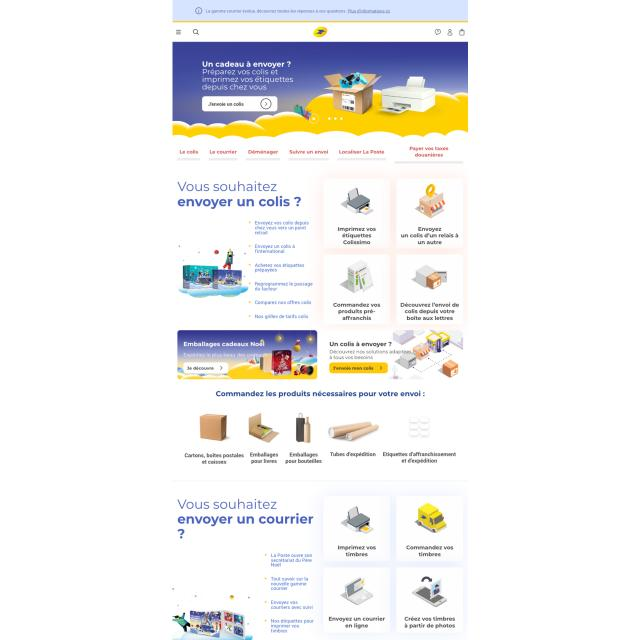content: (179, 410, 460, 470), (248, 216, 315, 323), (263, 550, 317, 635)
logo: (312, 25, 329, 39)
navigation: (323, 178, 465, 323), (322, 495, 462, 635), (172, 144, 470, 164), (175, 28, 182, 37)
